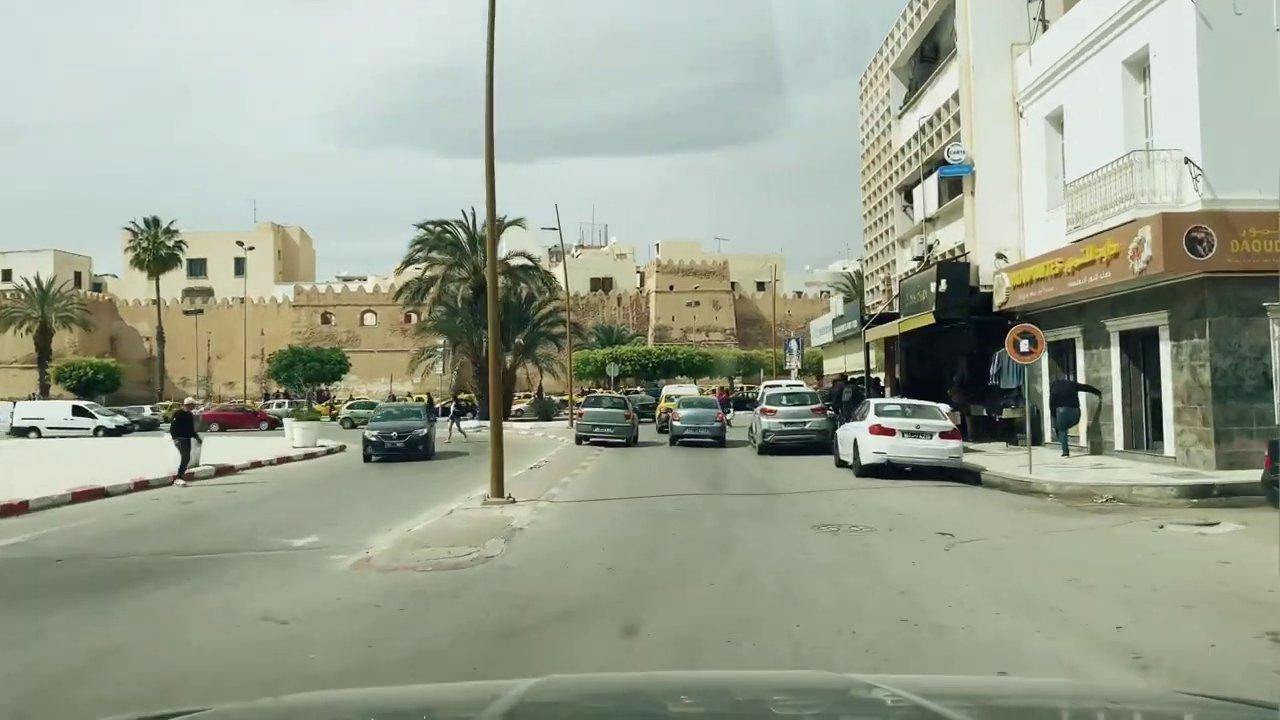no parking: (1003, 321, 1046, 365)
